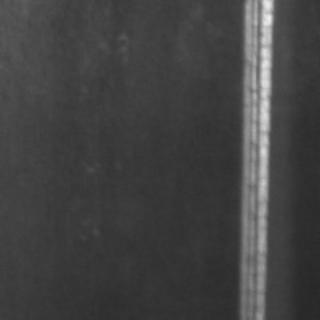scratches: (232, 0, 276, 316)
